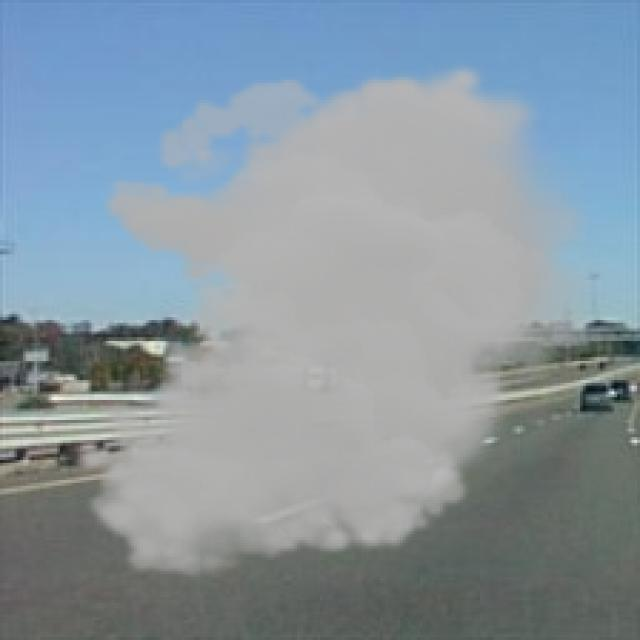Smoke: (69, 60, 608, 580)
